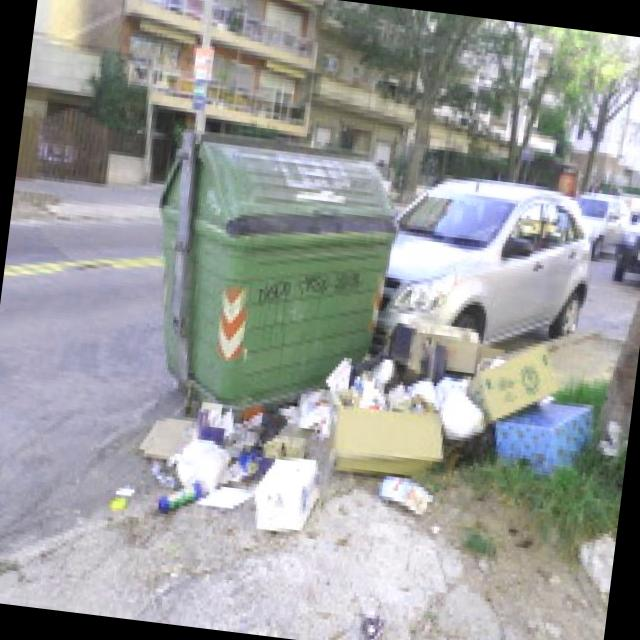high trash: (141, 334, 619, 529)
